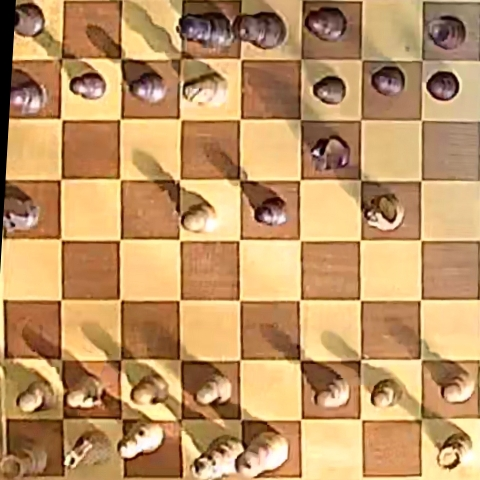black-bishop: (305, 7, 347, 41)
black-king: (233, 12, 286, 48)
black-knight: (310, 136, 349, 171), (4, 199, 41, 231)
black-pawn: (183, 73, 227, 105), (11, 79, 48, 115), (128, 72, 166, 103), (69, 71, 106, 100), (371, 66, 405, 96), (426, 71, 459, 101), (313, 76, 346, 104), (255, 198, 287, 226)
black-queen: (176, 12, 232, 48)
black-rook: (426, 16, 466, 50), (14, 3, 44, 37)
white-bishop: (66, 429, 112, 471), (119, 422, 164, 459)
white-king: (238, 431, 288, 477)
white-knight: (364, 194, 404, 231)
white-pawn: (429, 363, 474, 405), (67, 374, 107, 409), (17, 380, 55, 414), (131, 373, 169, 406), (312, 375, 350, 408), (196, 372, 231, 405), (182, 202, 216, 232), (372, 379, 402, 408)
white-queen: (192, 434, 245, 480)
white-rook: (3, 437, 48, 476), (437, 432, 472, 469)
